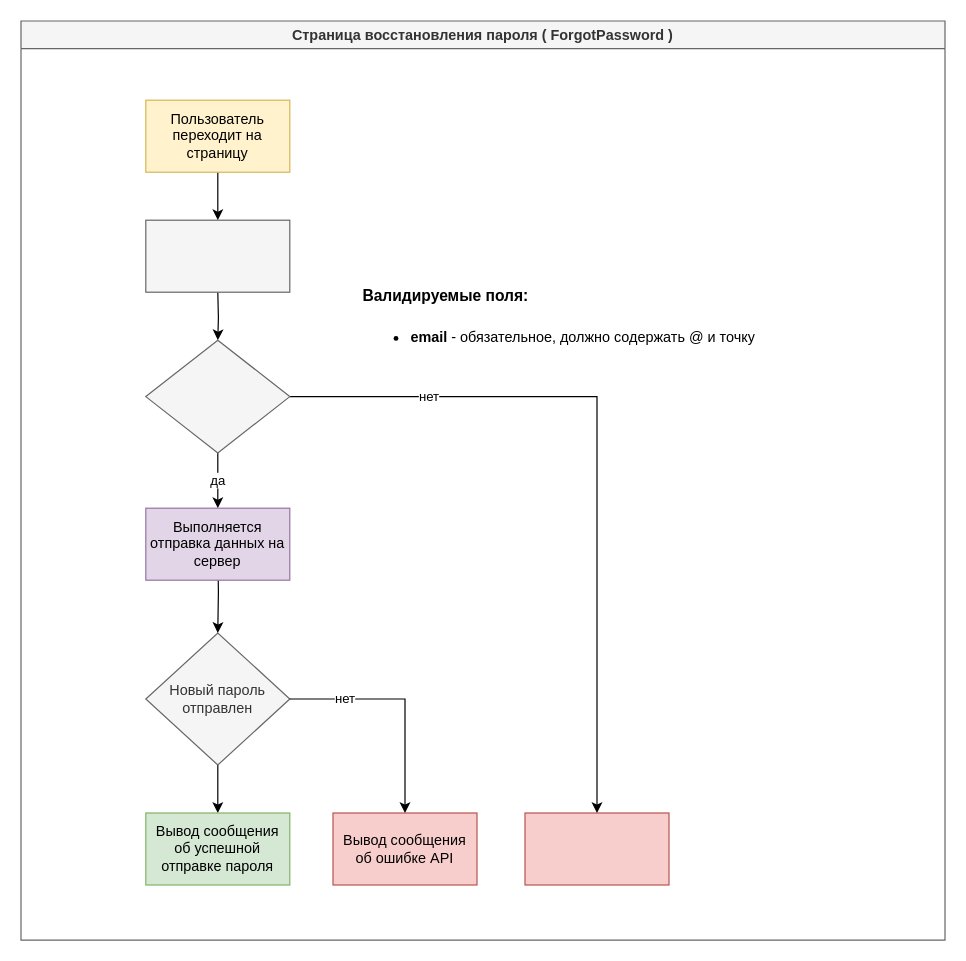
Some shapes in this 966 by 961 pixel diagram are drawn without their labels. Each missing label, with the centre of its shape:
Вывод сообщения об ошибке некорректно заполненного поля: [596,848]
Данные валидны?: [217,396]
Заполнение и отправка формы: [217,255]
